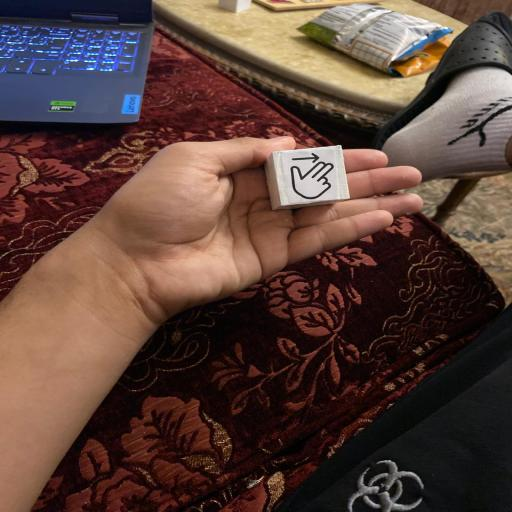RightSwipe: (264, 145, 350, 210)
